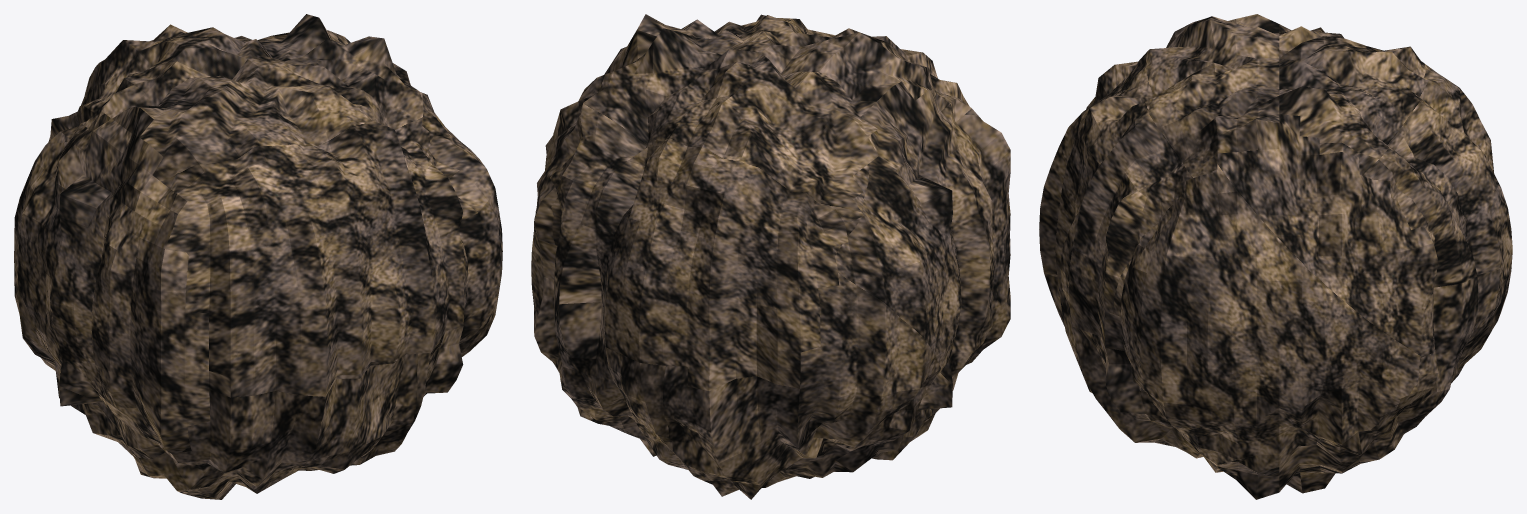
The model's file is asteroid97.obj.
3 views of the same model, side by side, from view 1: azimuth 30°, elevation 25°; view 2: azimuth 150°, elevation 25°; view 3: azimuth 270°, elevation 25° (orthographic). The views are drawn at different scales.
Parts seen in each view (by area): view 1: Cube_Cube.002; view 2: Cube_Cube.002; view 3: Cube_Cube.002.
Part boxes in pixels (left/top/right/bottom): Cube_Cube.002: left=14, top=14, right=502, bottom=499; Cube_Cube.002: left=531, top=14, right=1010, bottom=499; Cube_Cube.002: left=1039, top=14, right=1512, bottom=499.
Size of the model in its own units: 1.77 by 1.74 by 1.83.
